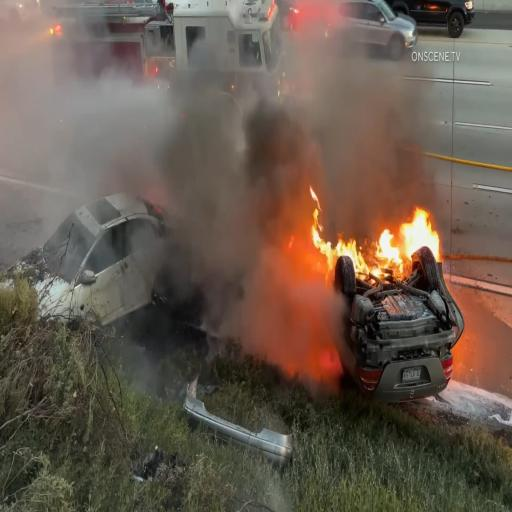fire: (398, 210, 446, 270), (304, 184, 340, 262), (376, 222, 408, 285), (338, 232, 369, 284)
smoke: (152, 73, 258, 352), (326, 62, 434, 213), (246, 228, 338, 395), (238, 92, 317, 230), (64, 72, 152, 193)
